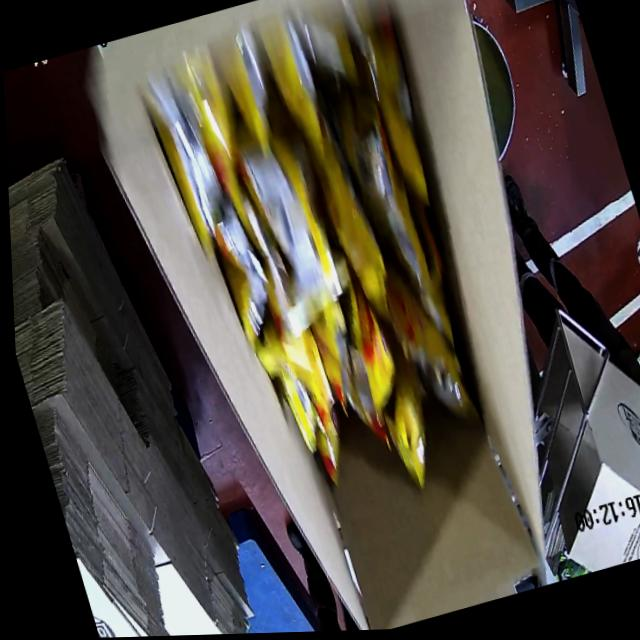SALTED: (116, 0, 487, 509)
